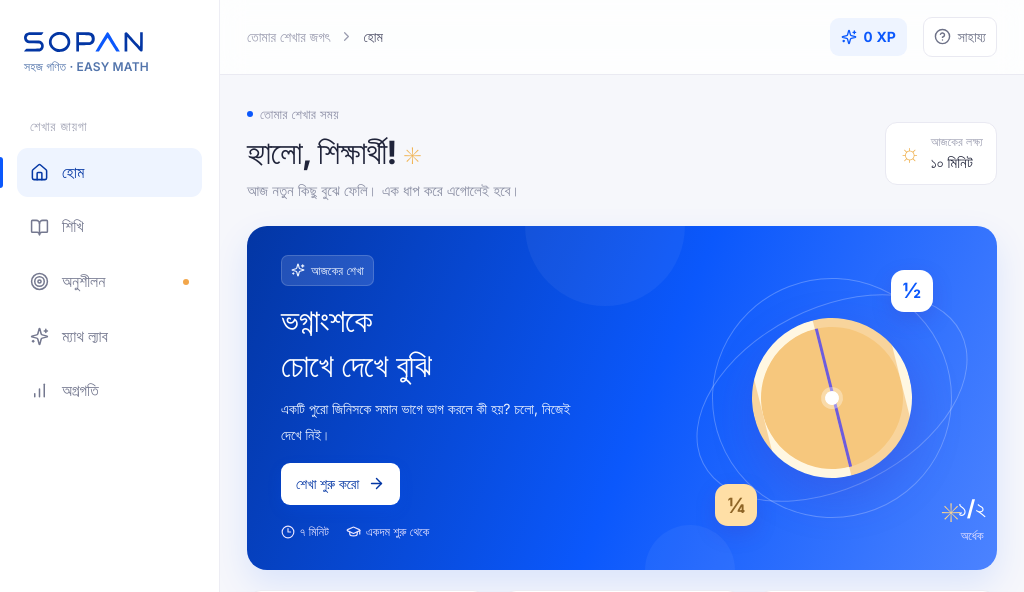
Test: Easy Math learning flow › makes percentages visible as parts of a 100-cell grid
Step 1. Click the button "শিখি" → [110, 227], box [17,202,202,252]
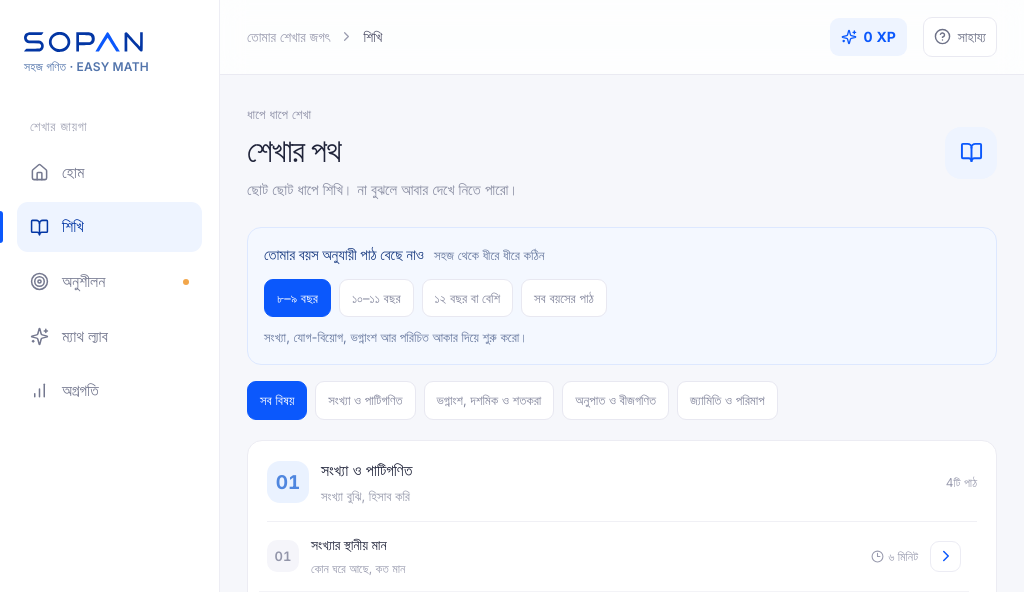
Step 2. Click the button "১০–১১ বছর" → [376, 298], box [339,279,414,317]
(page scrolled)
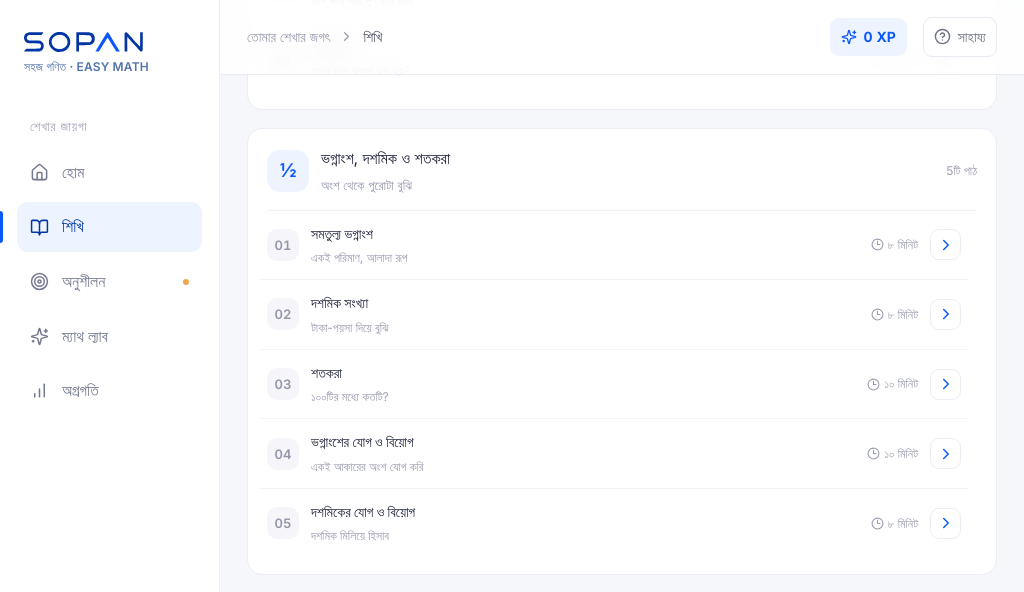
Step 3. Click the button with aria-label "শতকরা খুলুন" → [283, 384], box [259,350,969,419]
(page scrolled)
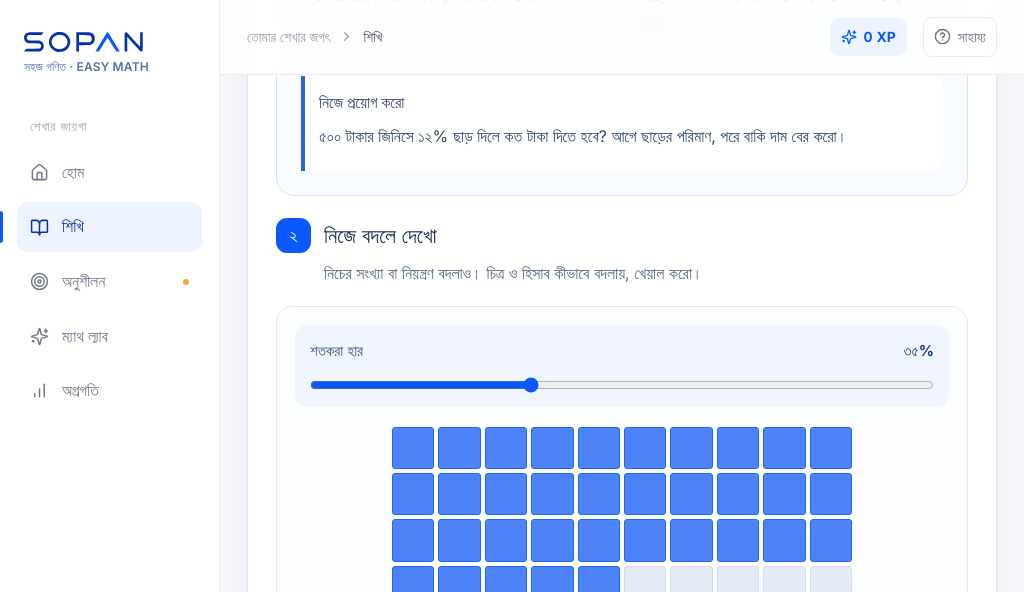
Expected: the slider labelled "শতকরা হার" is shown, [310,377,934,393]
